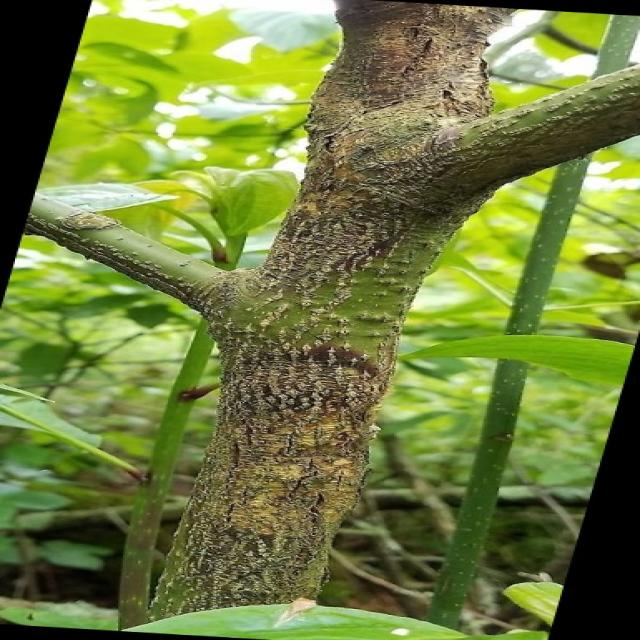Golden_canker: (39, 14, 637, 626)
